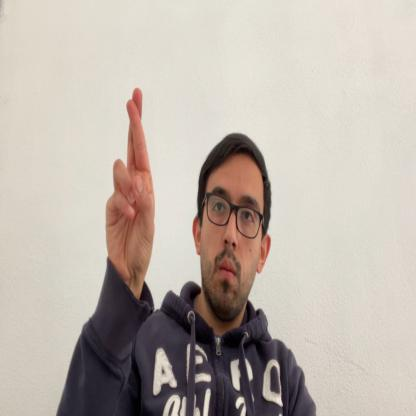R: (106, 86, 156, 275)
